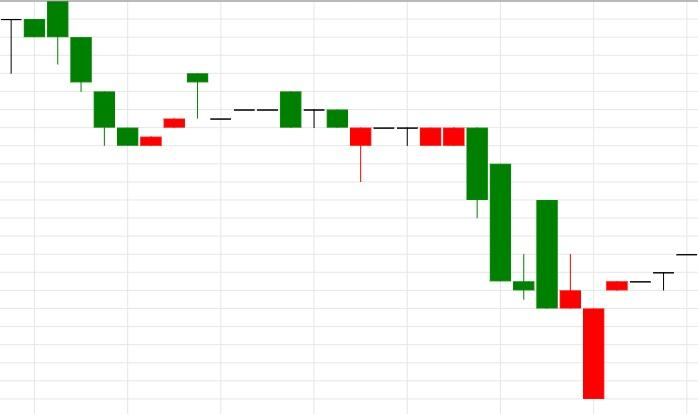hammer_rise: (186, 73, 372, 183)
inverse_hammer_rise: (442, 128, 582, 309)
